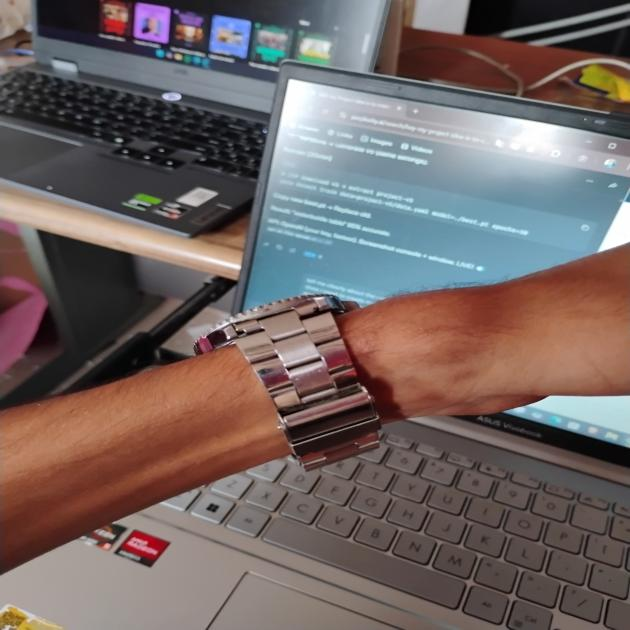laptop: (0, 0, 412, 249)
wristwatch: (176, 295, 429, 492)
